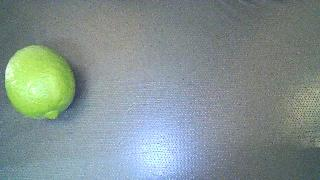EXPORTACION: (5, 45, 75, 119)
